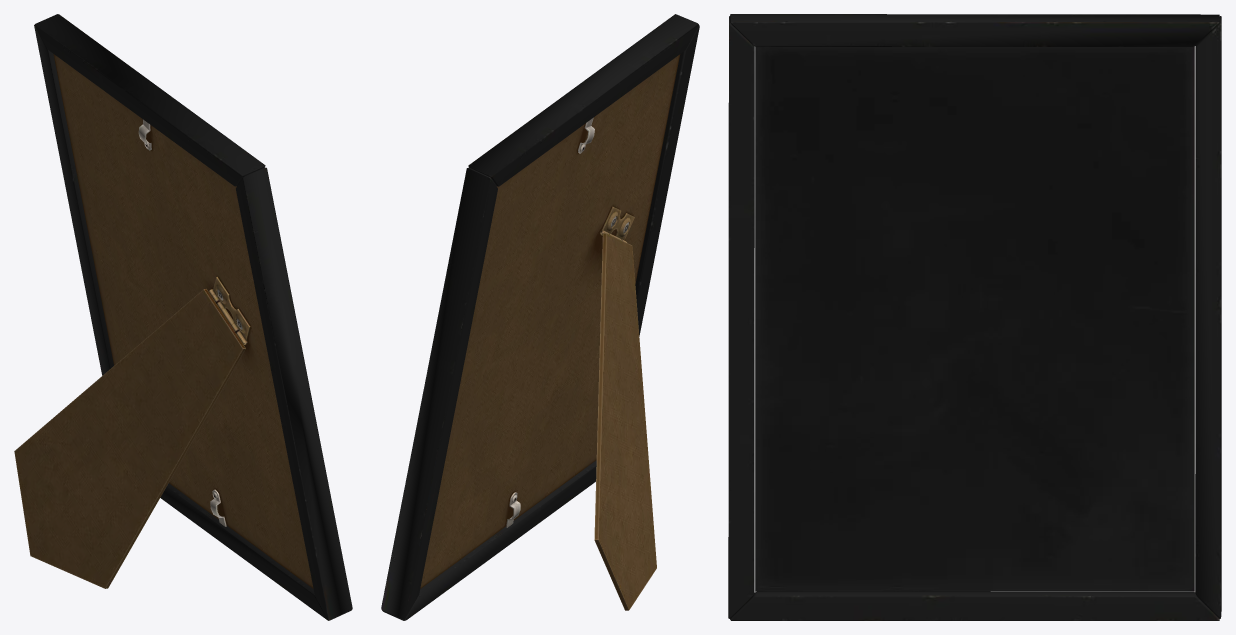
File: standing_picture_frame_01.glb
The picture shows the model from 3 angles, left to right: view 1: azimuth 30°, elevation 25°; view 2: azimuth 150°, elevation 25°; view 3: azimuth 270°, elevation 25°; orthographic projection. The views are drawn at different scales.
Parts seen in each view (by area): view 1: standing_picture_frame_01; view 2: standing_picture_frame_01; view 3: standing_picture_frame_01.
Boxes of the visible parts, x1=… form: standing_picture_frame_01: x1=14, y1=14, x2=352, y2=620; standing_picture_frame_01: x1=381, y1=14, x2=699, y2=620; standing_picture_frame_01: x1=728, y1=14, x2=1221, y2=620.
Bounding box in the file's own units: 0.1003 × 0.2496 × 0.2004.
Materials: 3 (3 with a texture image).
